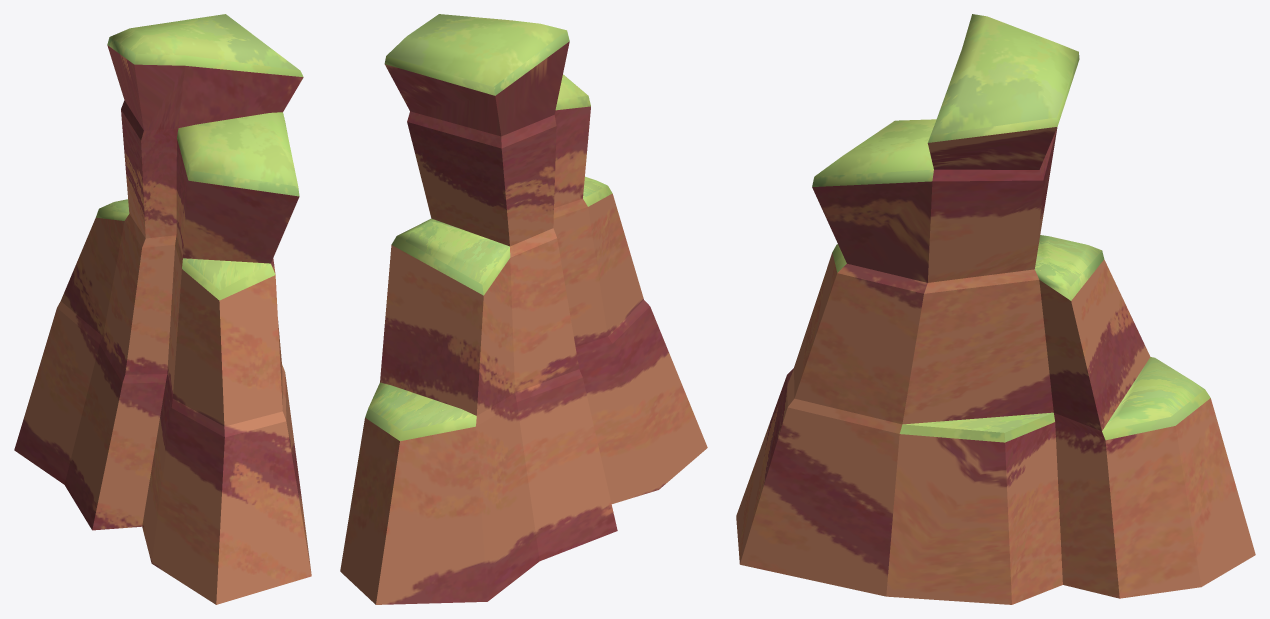
The model's file is rock4.fbx.
3 renders of one model, left to right at view 1: azimuth 30°, elevation 25°; view 2: azimuth 150°, elevation 25°; view 3: azimuth 270°, elevation 25°, orthographic. The views are drawn at different scales.
Parts seen in each view (by area): view 1: rock4; view 2: rock4; view 3: rock4.
Part boxes in pixels (<box>): rock4: <box>14,14,311,604</box>; rock4: <box>340,14,707,604</box>; rock4: <box>736,14,1255,604</box>.
Size of the model in its own units: 328 by 767 by 689.
